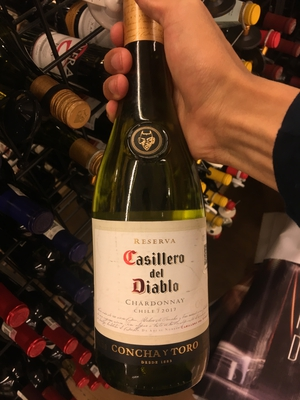casillero del diablo chardonnay: (78, 16, 226, 383)
